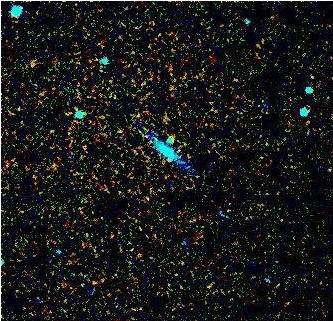star: (154, 149, 184, 179)
